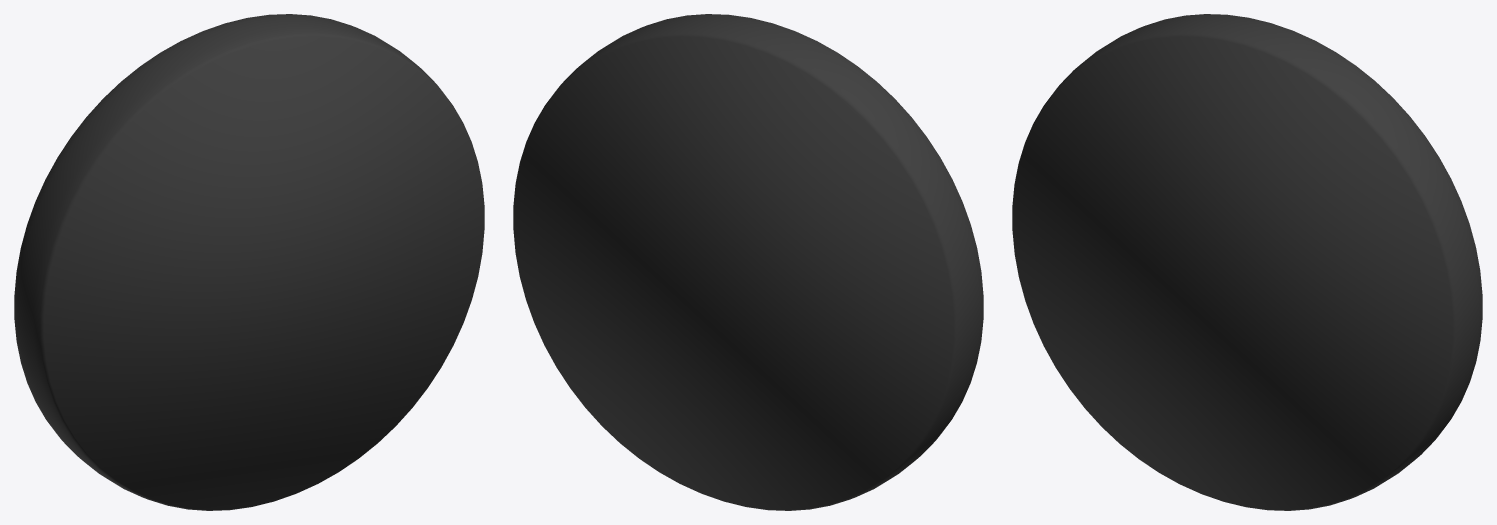
File: A.Item.02c.glb
3 views of the same model, side by side, from view 1: azimuth 30°, elevation 25°; view 2: azimuth 150°, elevation 25°; view 3: azimuth 330°, elevation 25° (orthographic).
Visible parts, largest first — view 1: A.Item.02c; view 2: A.Item.02c; view 3: A.Item.02c.
Boxes of the visible parts, <box> form: A.Item.02c: <box>14,14,484,510</box>; A.Item.02c: <box>513,14,983,510</box>; A.Item.02c: <box>1012,14,1482,510</box>.
Size of the model in its own units: 0.1774 by 0.1774 by 0.0203.
Materials: 1 (1 with a texture image).
